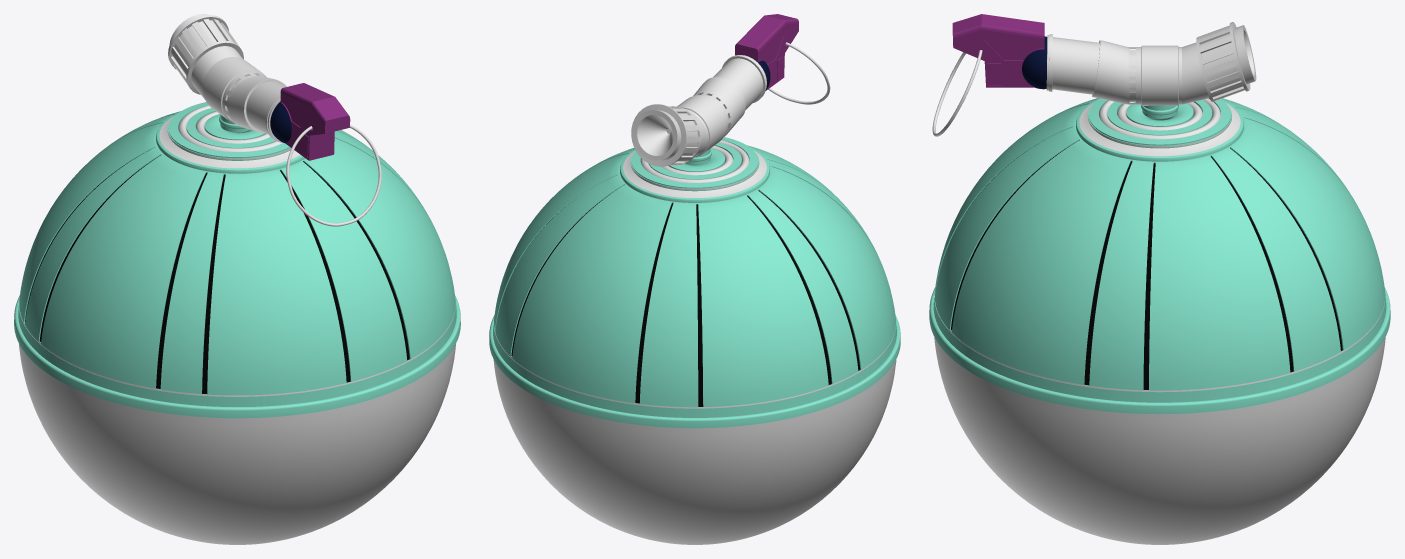
File: granade.exe.fbx
3 renders of one model, left to right at view 1: azimuth 30°, elevation 25°; view 2: azimuth 150°, elevation 25°; view 3: azimuth 270°, elevation 25°, orthographic. The views are drawn at different scales.
Visible parts, largest first — view 1: Sphere, Cylinder, Cube, NurbsCircle, Cylinder.001; view 2: Sphere, Cylinder, Cube; view 3: Sphere, Cylinder, Cube, Cylinder.001, NurbsCircle.
Boxes of the visible parts, x1=… form: Sphere: x1=14, y1=102, x2=460, y2=544; Cylinder: x1=168, y1=14, x2=286, y2=142; Cube: x1=280, y1=83, x2=350, y2=160; NurbsCircle: x1=286, y1=124, x2=381, y2=226; Cylinder.001: x1=270, y1=101, x2=291, y2=142; Sphere: x1=489, y1=137, x2=900, y2=544; Cylinder: x1=631, y1=55, x2=766, y2=166; Cube: x1=735, y1=14, x2=798, y2=90; Sphere: x1=929, y1=98, x2=1390, y2=544; Cylinder: x1=1046, y1=22, x2=1256, y2=105; Cube: x1=952, y1=14, x2=1044, y2=87; Cylinder.001: x1=1022, y1=36, x2=1047, y2=89; NurbsCircle: x1=932, y1=50, x2=982, y2=136.
Size of the model in its own units: 402 by 486 by 402.
